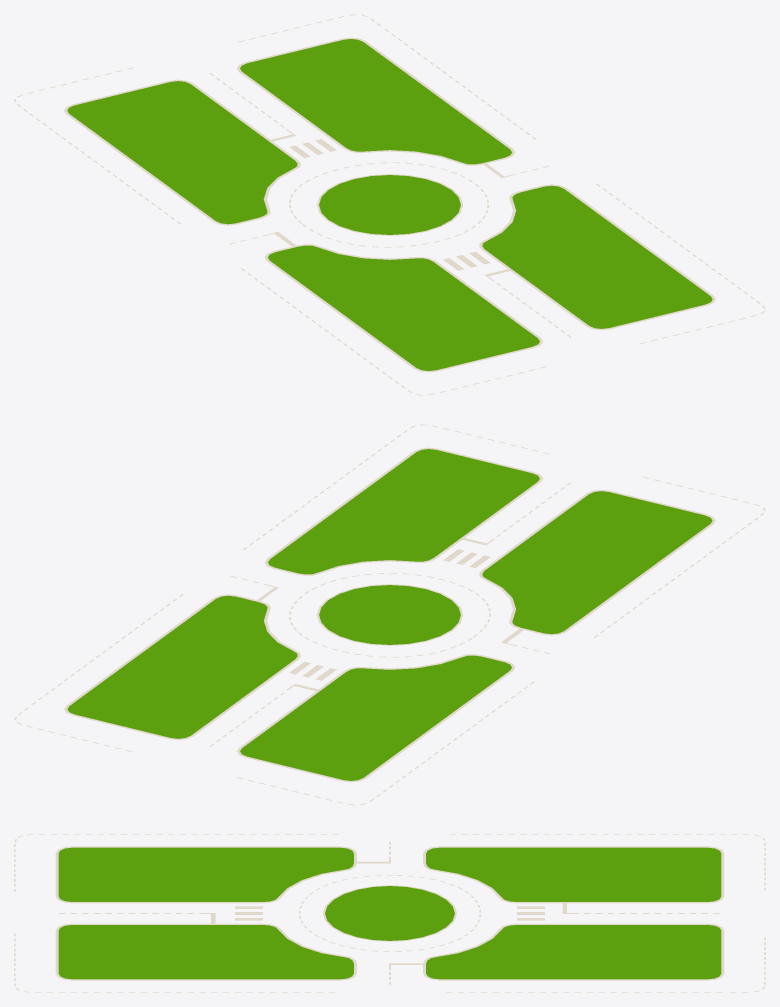
File: Town-map-Line.fbx
The picture shows the model from 3 angles, top to bottom: view 1: azimuth 30°, elevation 25°; view 2: azimuth 150°, elevation 25°; view 3: azimuth 270°, elevation 25°; orthographic projection. The views are drawn at different scales.
Parts seen in each view (by area): view 1: Town-map-Line; view 2: Town-map-Line; view 3: Town-map-Line.
Boxes of the visible parts, bbox=[...] form: Town-map-Line: bbox=[14, 14, 765, 395]; Town-map-Line: bbox=[14, 424, 765, 805]; Town-map-Line: bbox=[14, 834, 765, 992].
Bounding box in the file's own units: 19.47 × 1.86e-09 × 39.02.
